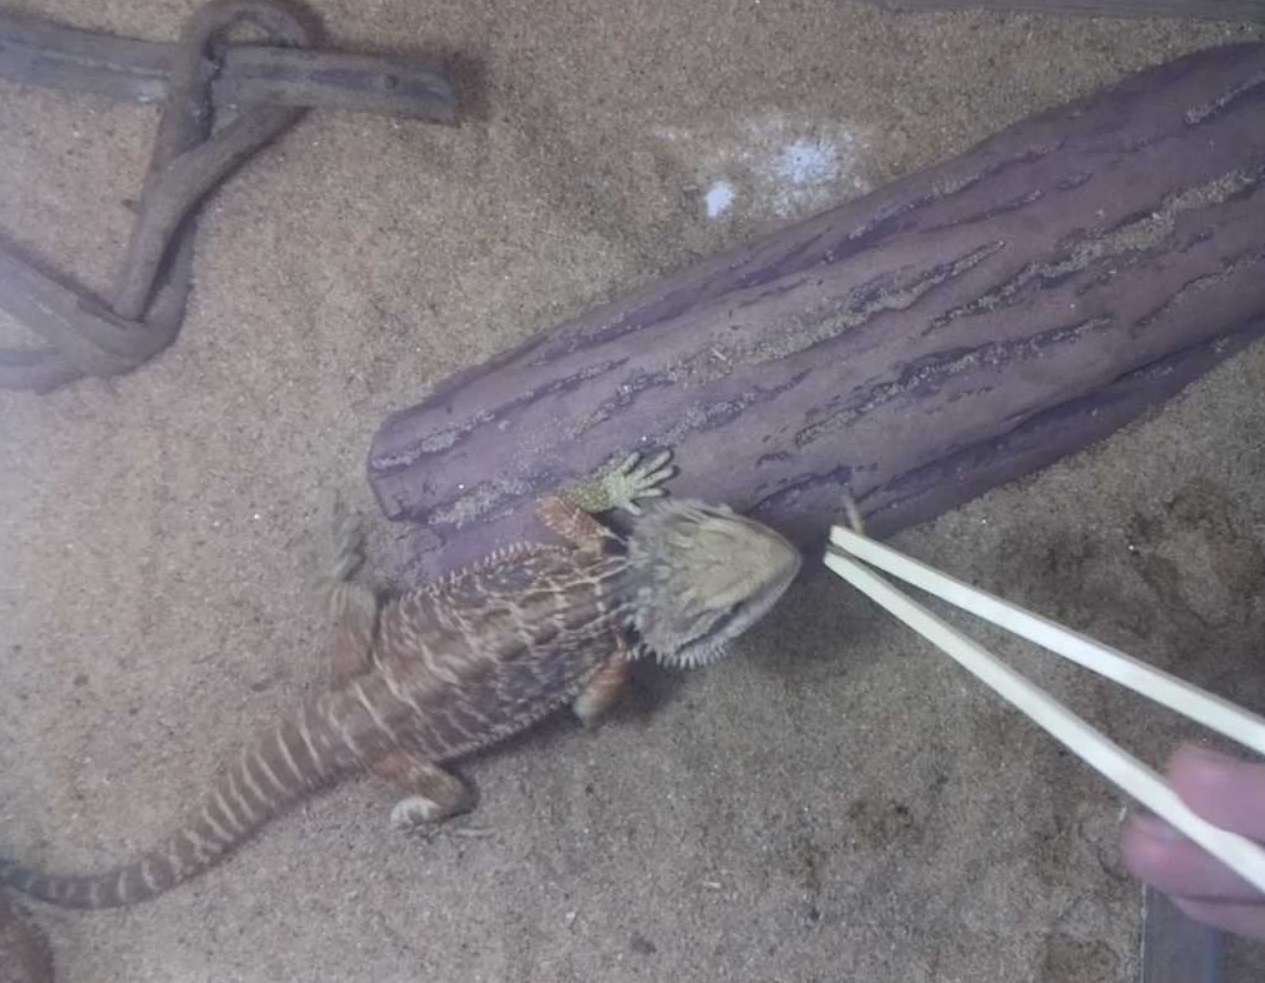bearded: (1, 445, 806, 915)
